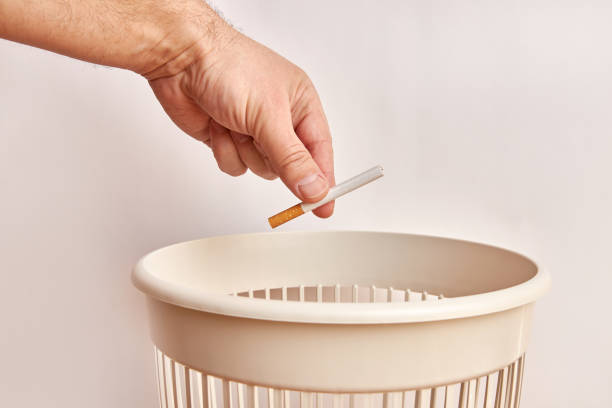cigarette: (266, 165, 384, 230)
